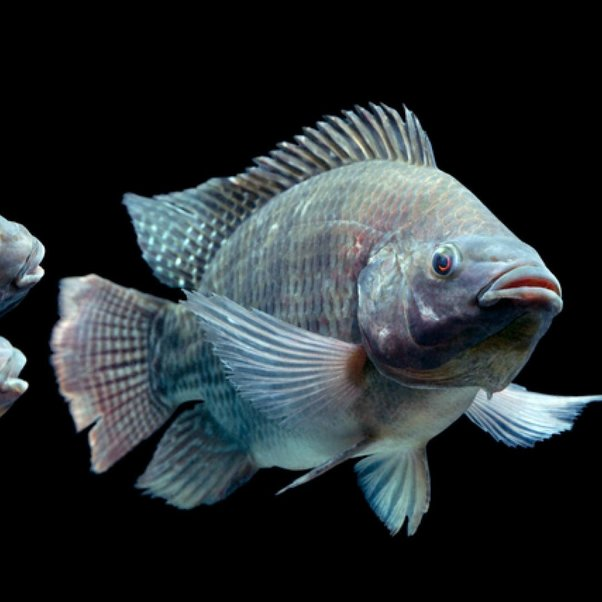Fish: (64, 103, 566, 519)
